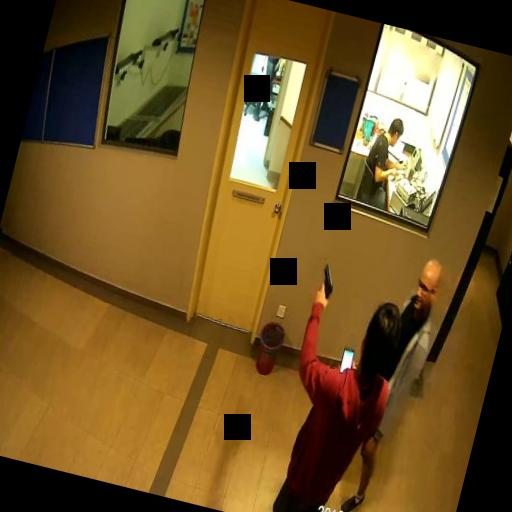Handgun: (314, 261, 338, 301)
